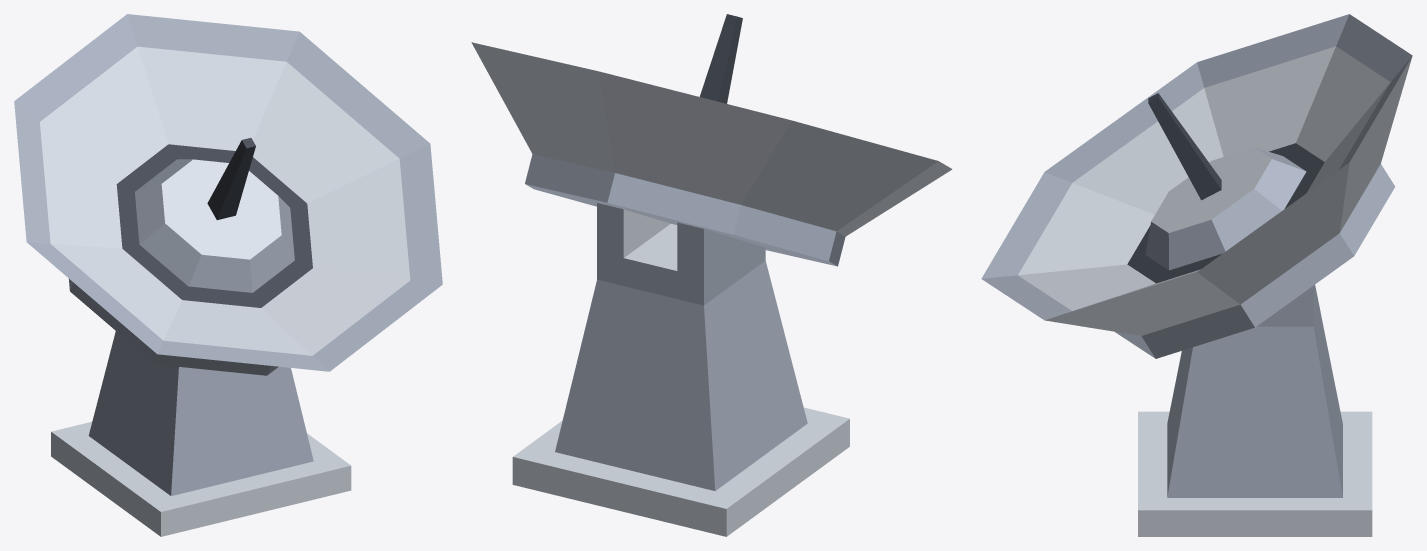
The model's file is satelliteDish_large.fbx.
The picture shows the model from 3 angles, left to right: view 1: azimuth 30°, elevation 25°; view 2: azimuth 150°, elevation 25°; view 3: azimuth 270°, elevation 25°; orthographic projection. The views are drawn at different scales.
Parts seen in each view (by area): view 1: satelliteDish_large; view 2: satelliteDish_large; view 3: satelliteDish_large.
Part boxes in pixels (box(x1,y1,x2,y2)): satelliteDish_large: box(14, 14, 442, 536); satelliteDish_large: box(471, 14, 952, 536); satelliteDish_large: box(981, 14, 1412, 536).
Size of the model in its own units: 8.49 by 8.14 by 7.37.
